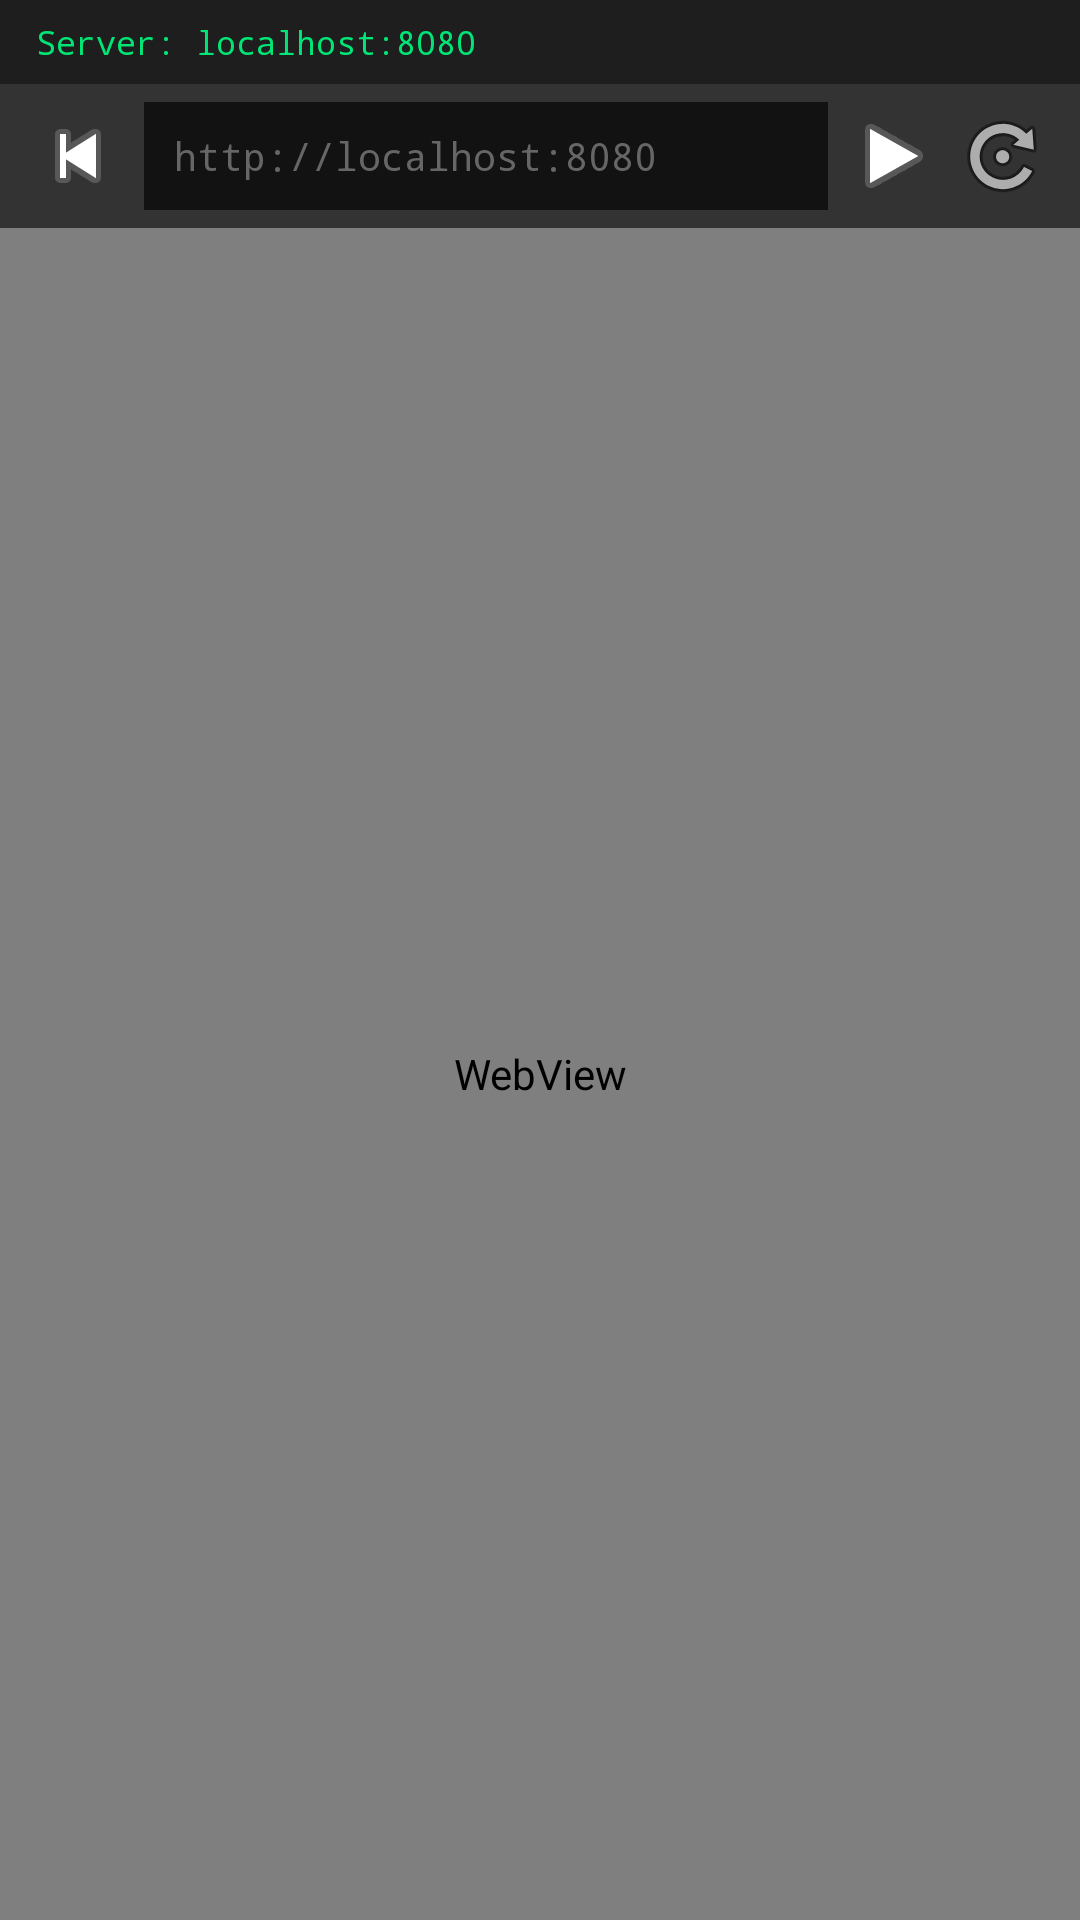

Icon click points for this 1080 × 1920 phone screenshot, format point (x, y):
Back: point (78, 156)
Go: point (894, 156)
Refresh: point (1002, 156)
